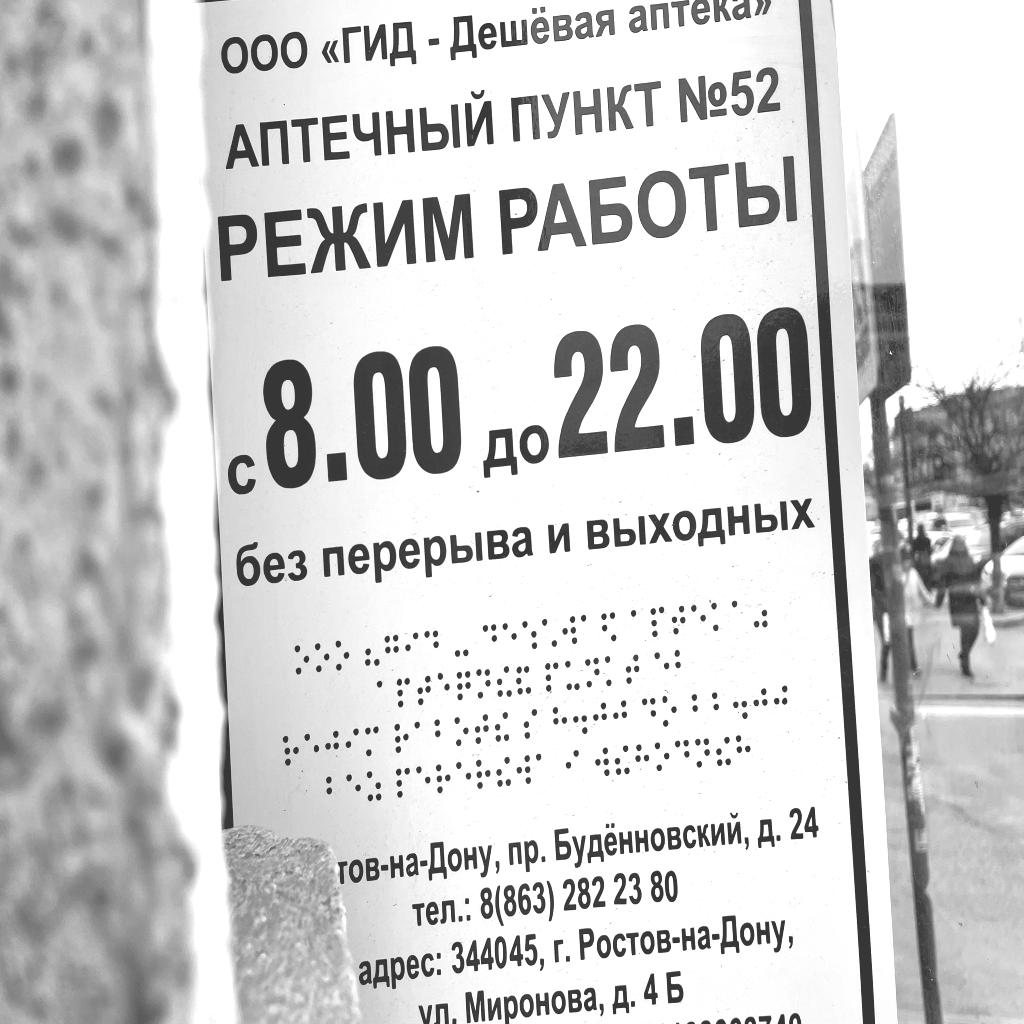_n: (476, 668, 492, 700), (585, 657, 601, 689), (695, 737, 711, 769)
_y: (565, 659, 581, 691)
a: (630, 609, 646, 642), (731, 599, 747, 631), (414, 721, 430, 753), (535, 752, 551, 784), (377, 680, 392, 712), (581, 614, 596, 644)
b: (325, 776, 342, 809), (434, 718, 450, 750)
ch: (456, 670, 472, 702)
d: (423, 629, 440, 661), (481, 623, 498, 655), (641, 696, 657, 728), (674, 739, 690, 770)
defis: (454, 629, 470, 660)
e: (345, 773, 362, 806), (501, 621, 518, 653), (690, 603, 707, 635), (304, 732, 320, 765), (415, 764, 431, 795), (456, 761, 472, 792), (437, 672, 451, 702)
g: (384, 634, 399, 666)
gh: (325, 730, 339, 762)
i: (564, 749, 580, 783), (404, 631, 419, 663), (346, 727, 360, 759)
iKratkoe: (516, 665, 532, 696)
ii: (614, 744, 631, 777), (497, 665, 513, 698), (716, 735, 732, 768), (496, 756, 512, 788), (495, 710, 510, 743)
k: (605, 655, 621, 688), (711, 602, 727, 634)
kavichki1: (364, 635, 380, 668)
kavichki2: (753, 597, 768, 629)
m: (364, 725, 380, 757)
o: (661, 694, 678, 728), (294, 644, 310, 676), (314, 642, 330, 674), (654, 741, 670, 772), (335, 640, 350, 673), (454, 715, 469, 747)
p: (396, 766, 412, 800), (650, 605, 665, 639), (396, 676, 410, 709), (545, 662, 559, 693)
r: (282, 735, 300, 768), (435, 763, 452, 795), (394, 722, 410, 755), (475, 758, 491, 791)
s: (523, 708, 538, 740)
sh: (522, 619, 538, 650)
t: (417, 674, 432, 707), (671, 605, 686, 637), (625, 654, 640, 686), (475, 713, 490, 745)
tochka: (572, 702, 589, 736), (732, 686, 749, 720)
v: (594, 746, 611, 778), (516, 753, 532, 786), (562, 615, 578, 646)
x: (735, 733, 752, 767), (635, 743, 650, 775)
ya: (600, 611, 617, 643)
yo: (542, 618, 558, 648)
z: (366, 770, 382, 803)
